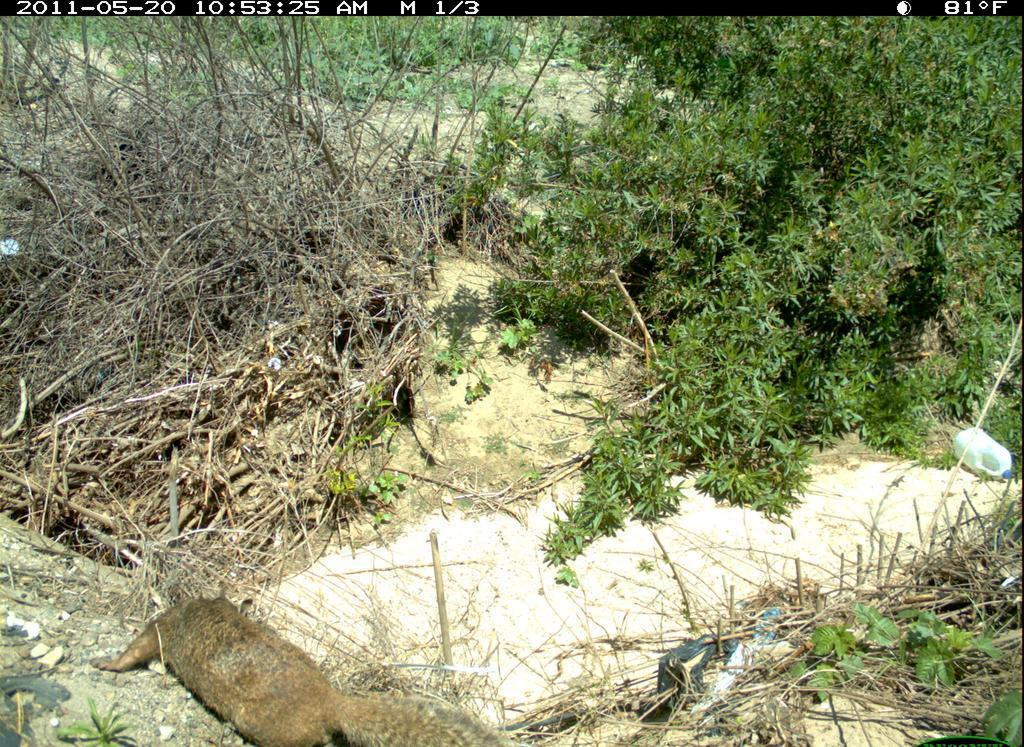squirrel: (104, 577, 520, 747)
